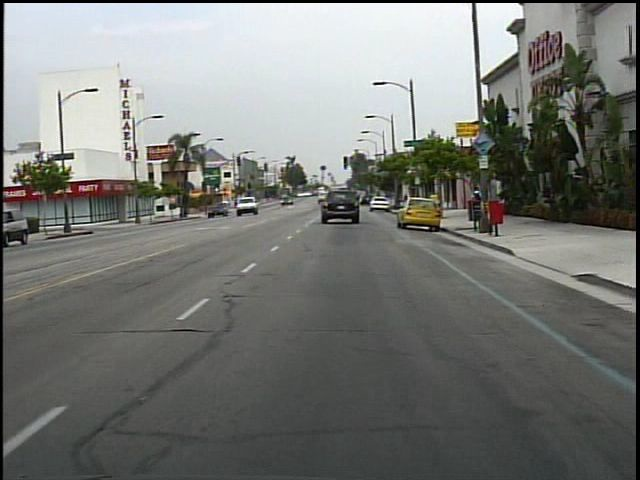person: (466, 184, 488, 222)
